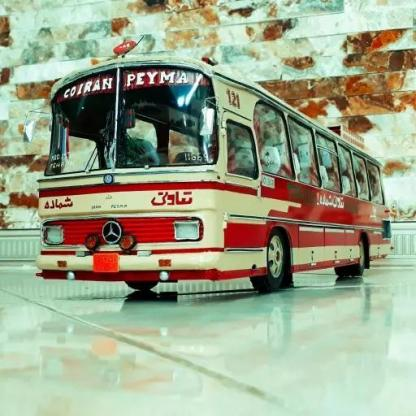Bus: (32, 50, 392, 304)
